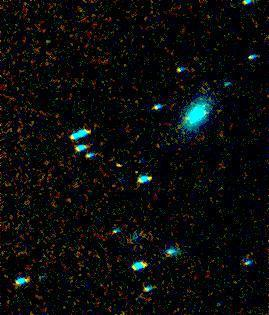star: (97, 152, 127, 182)
